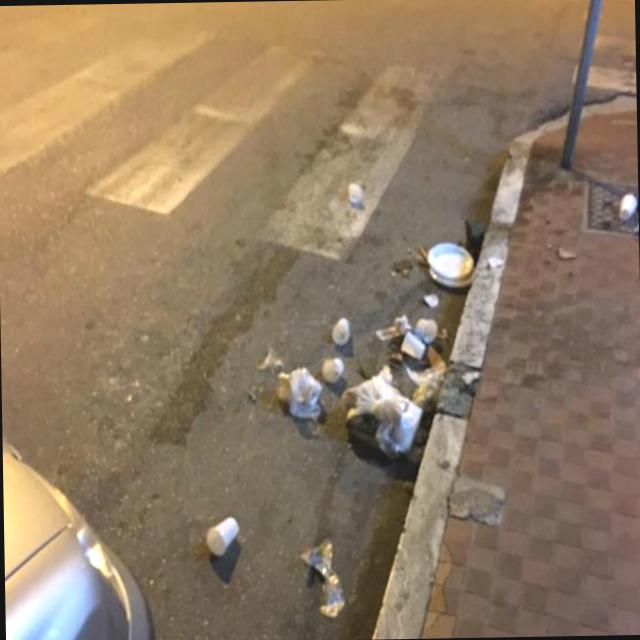garbage: (256, 193, 509, 476)
